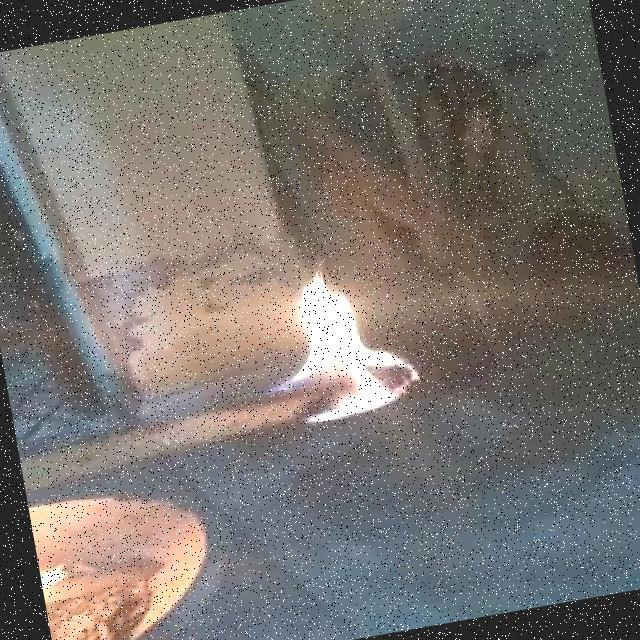Fire: (219, 244, 446, 437)
